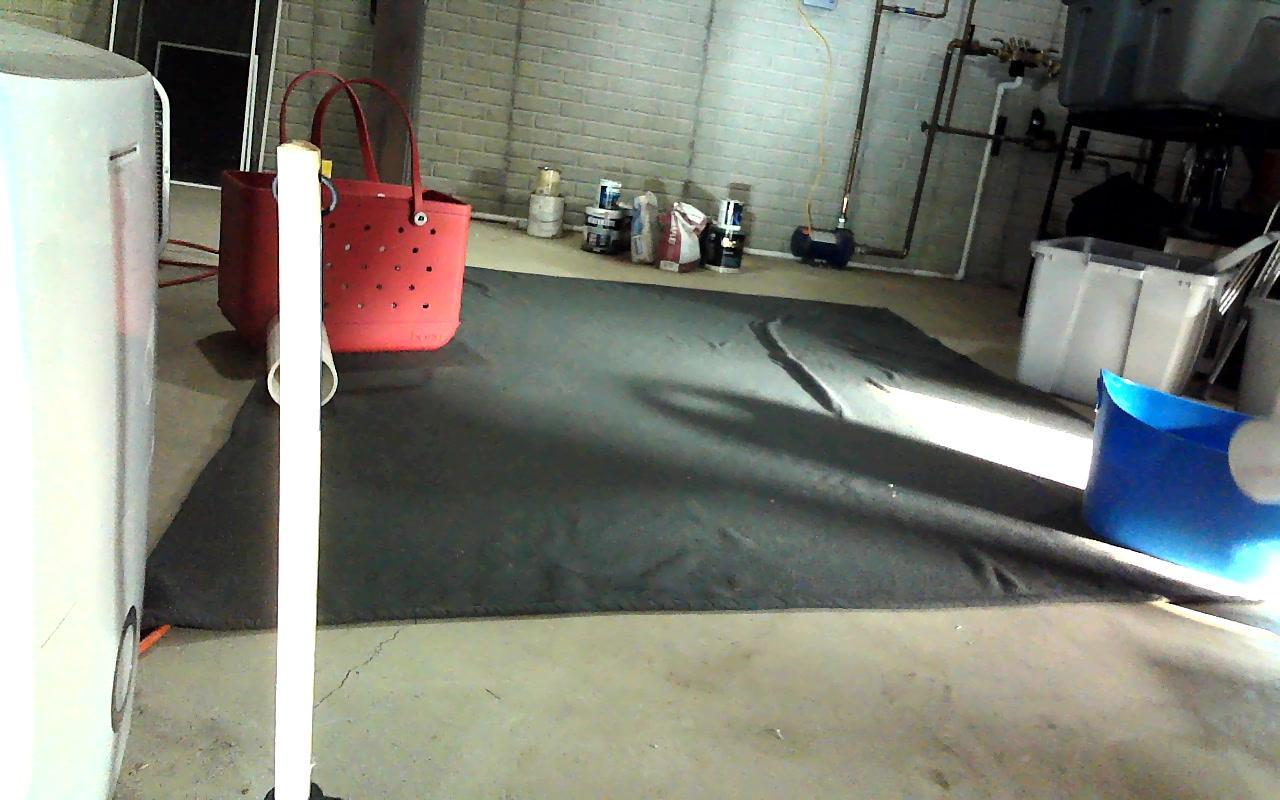coral: (267, 313, 337, 407)
